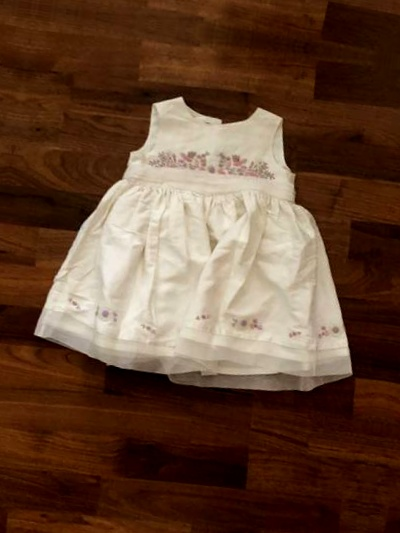Dress: (16, 69, 390, 452), (84, 0, 400, 5)
